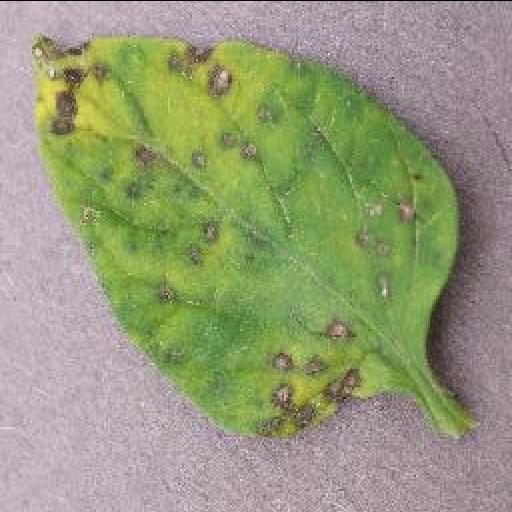disease_tomato: (32, 36, 460, 437)
